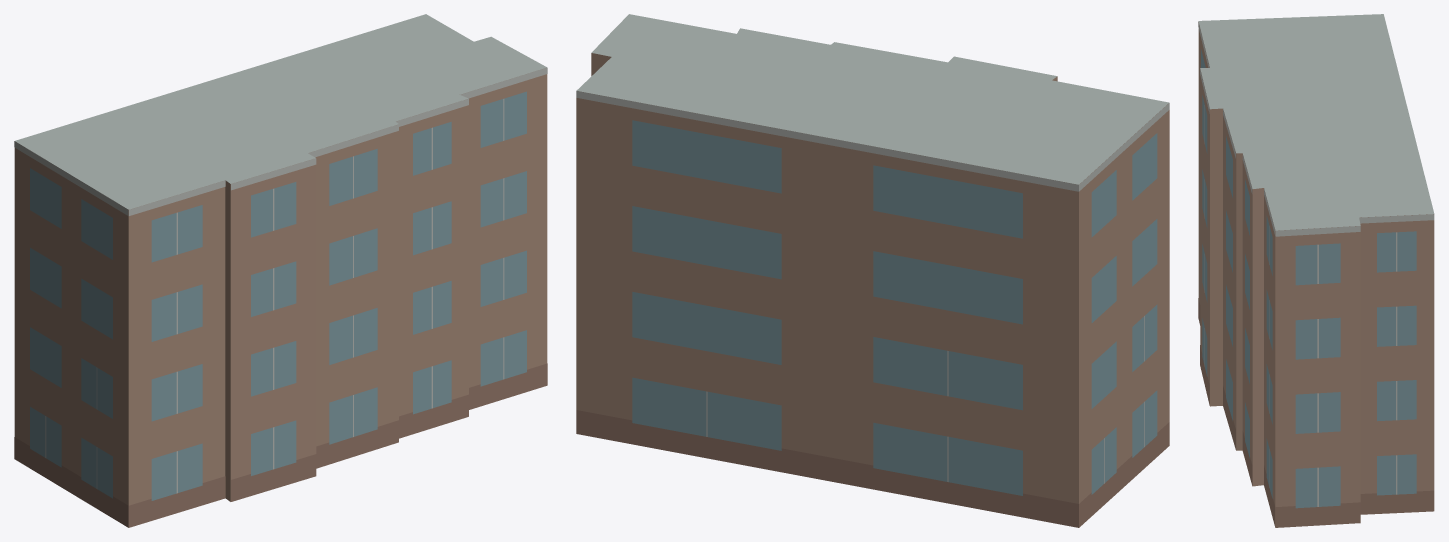
Rendered from survey-upis-32622337.glb.
The picture shows the model from 3 angles, left to right: view 1: azimuth 30°, elevation 25°; view 2: azimuth 150°, elevation 25°; view 3: azimuth 270°, elevation 25°; orthographic projection. The views are drawn at different scales.
Visible parts, largest first — view 1: survey-upis-32622337.tmp; view 2: survey-upis-32622337.tmp; view 3: survey-upis-32622337.tmp.
Boxes of the visible parts, x1=… form: survey-upis-32622337.tmp: x1=14, y1=14, x2=547, y2=527; survey-upis-32622337.tmp: x1=576, y1=14, x2=1169, y2=527; survey-upis-32622337.tmp: x1=1198, y1=14, x2=1434, y2=527.
Size of the model in its own units: 18.61 by 11.9 by 8.57.
